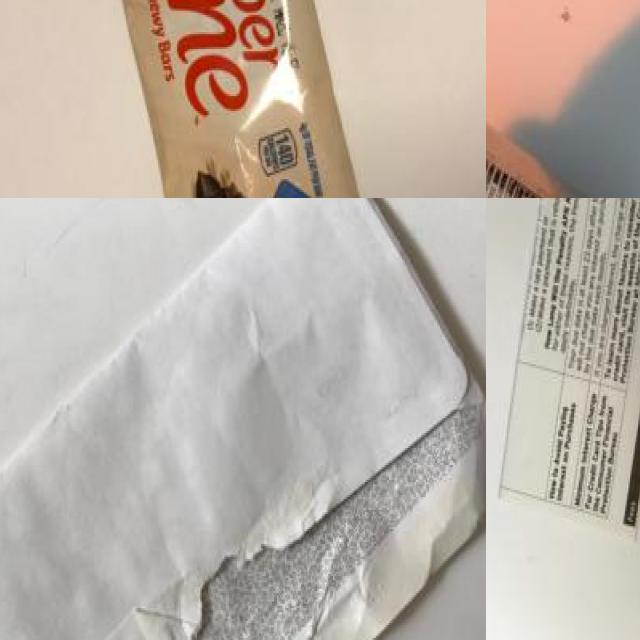paper: (0, 216, 485, 640), (486, 198, 640, 526)
plastic: (486, 22, 640, 198)
trash: (75, 0, 447, 198)
